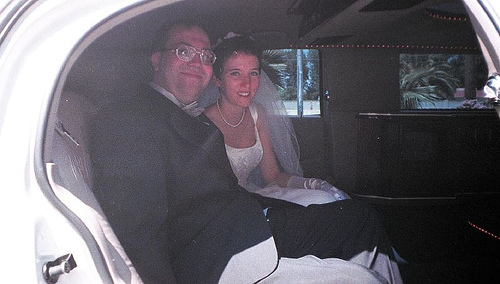without_mask: (152, 30, 217, 103), (213, 50, 263, 114)
